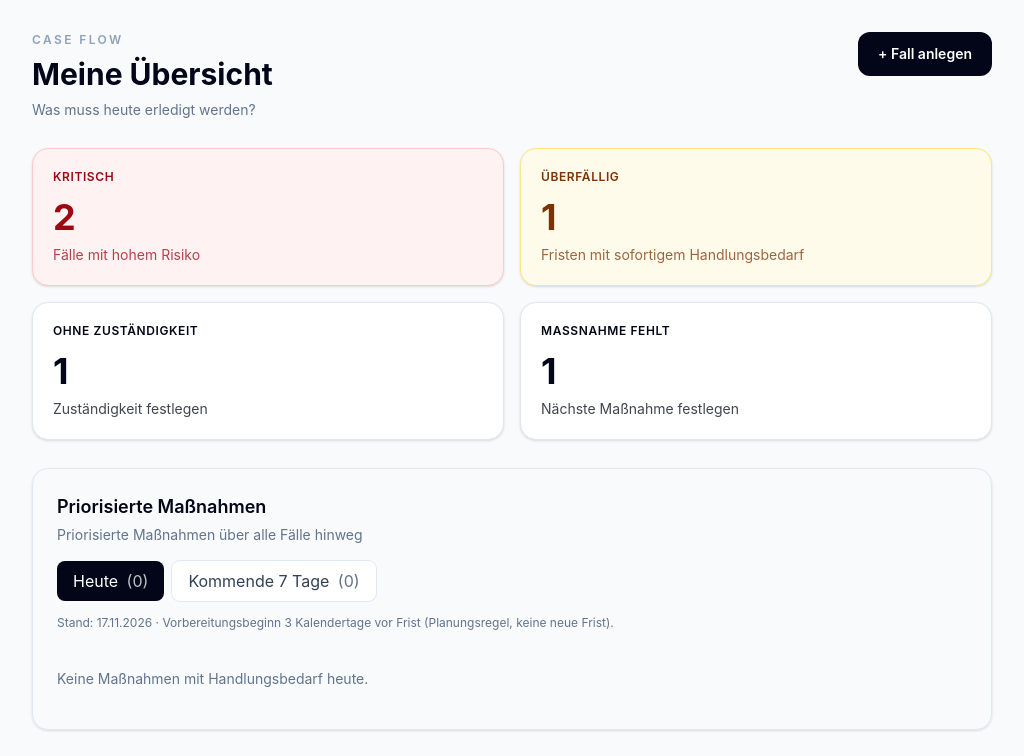
Scenario: dashboard with prioritized measures › preserves KPI links and shows the renamed worklist
Expected: the heading "Meine Übersicht" is shown, [32, 56, 273, 92]
Expected: the heading "Priorisierte Maßnahmen" is shown, [57, 496, 266, 517]
Click the button "Kommende 7 Tage (0)" at (274, 581), box [172, 561, 376, 601]
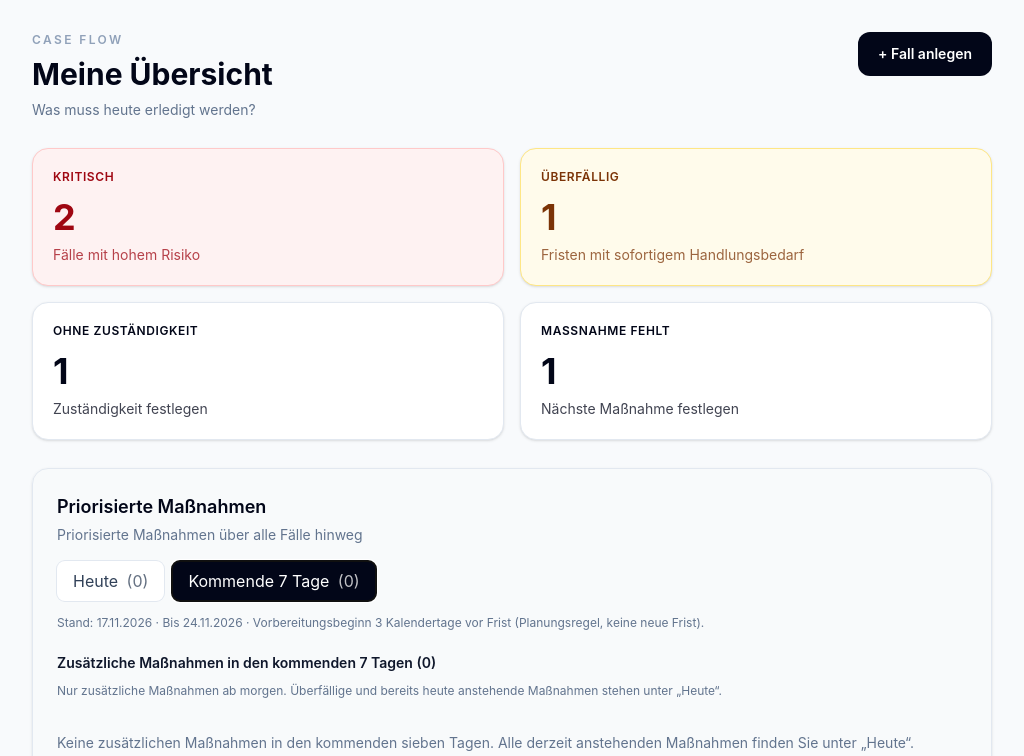
Now the text "Keine zusätzlichen Maßnahmen" is shown, box [57, 734, 914, 751]
